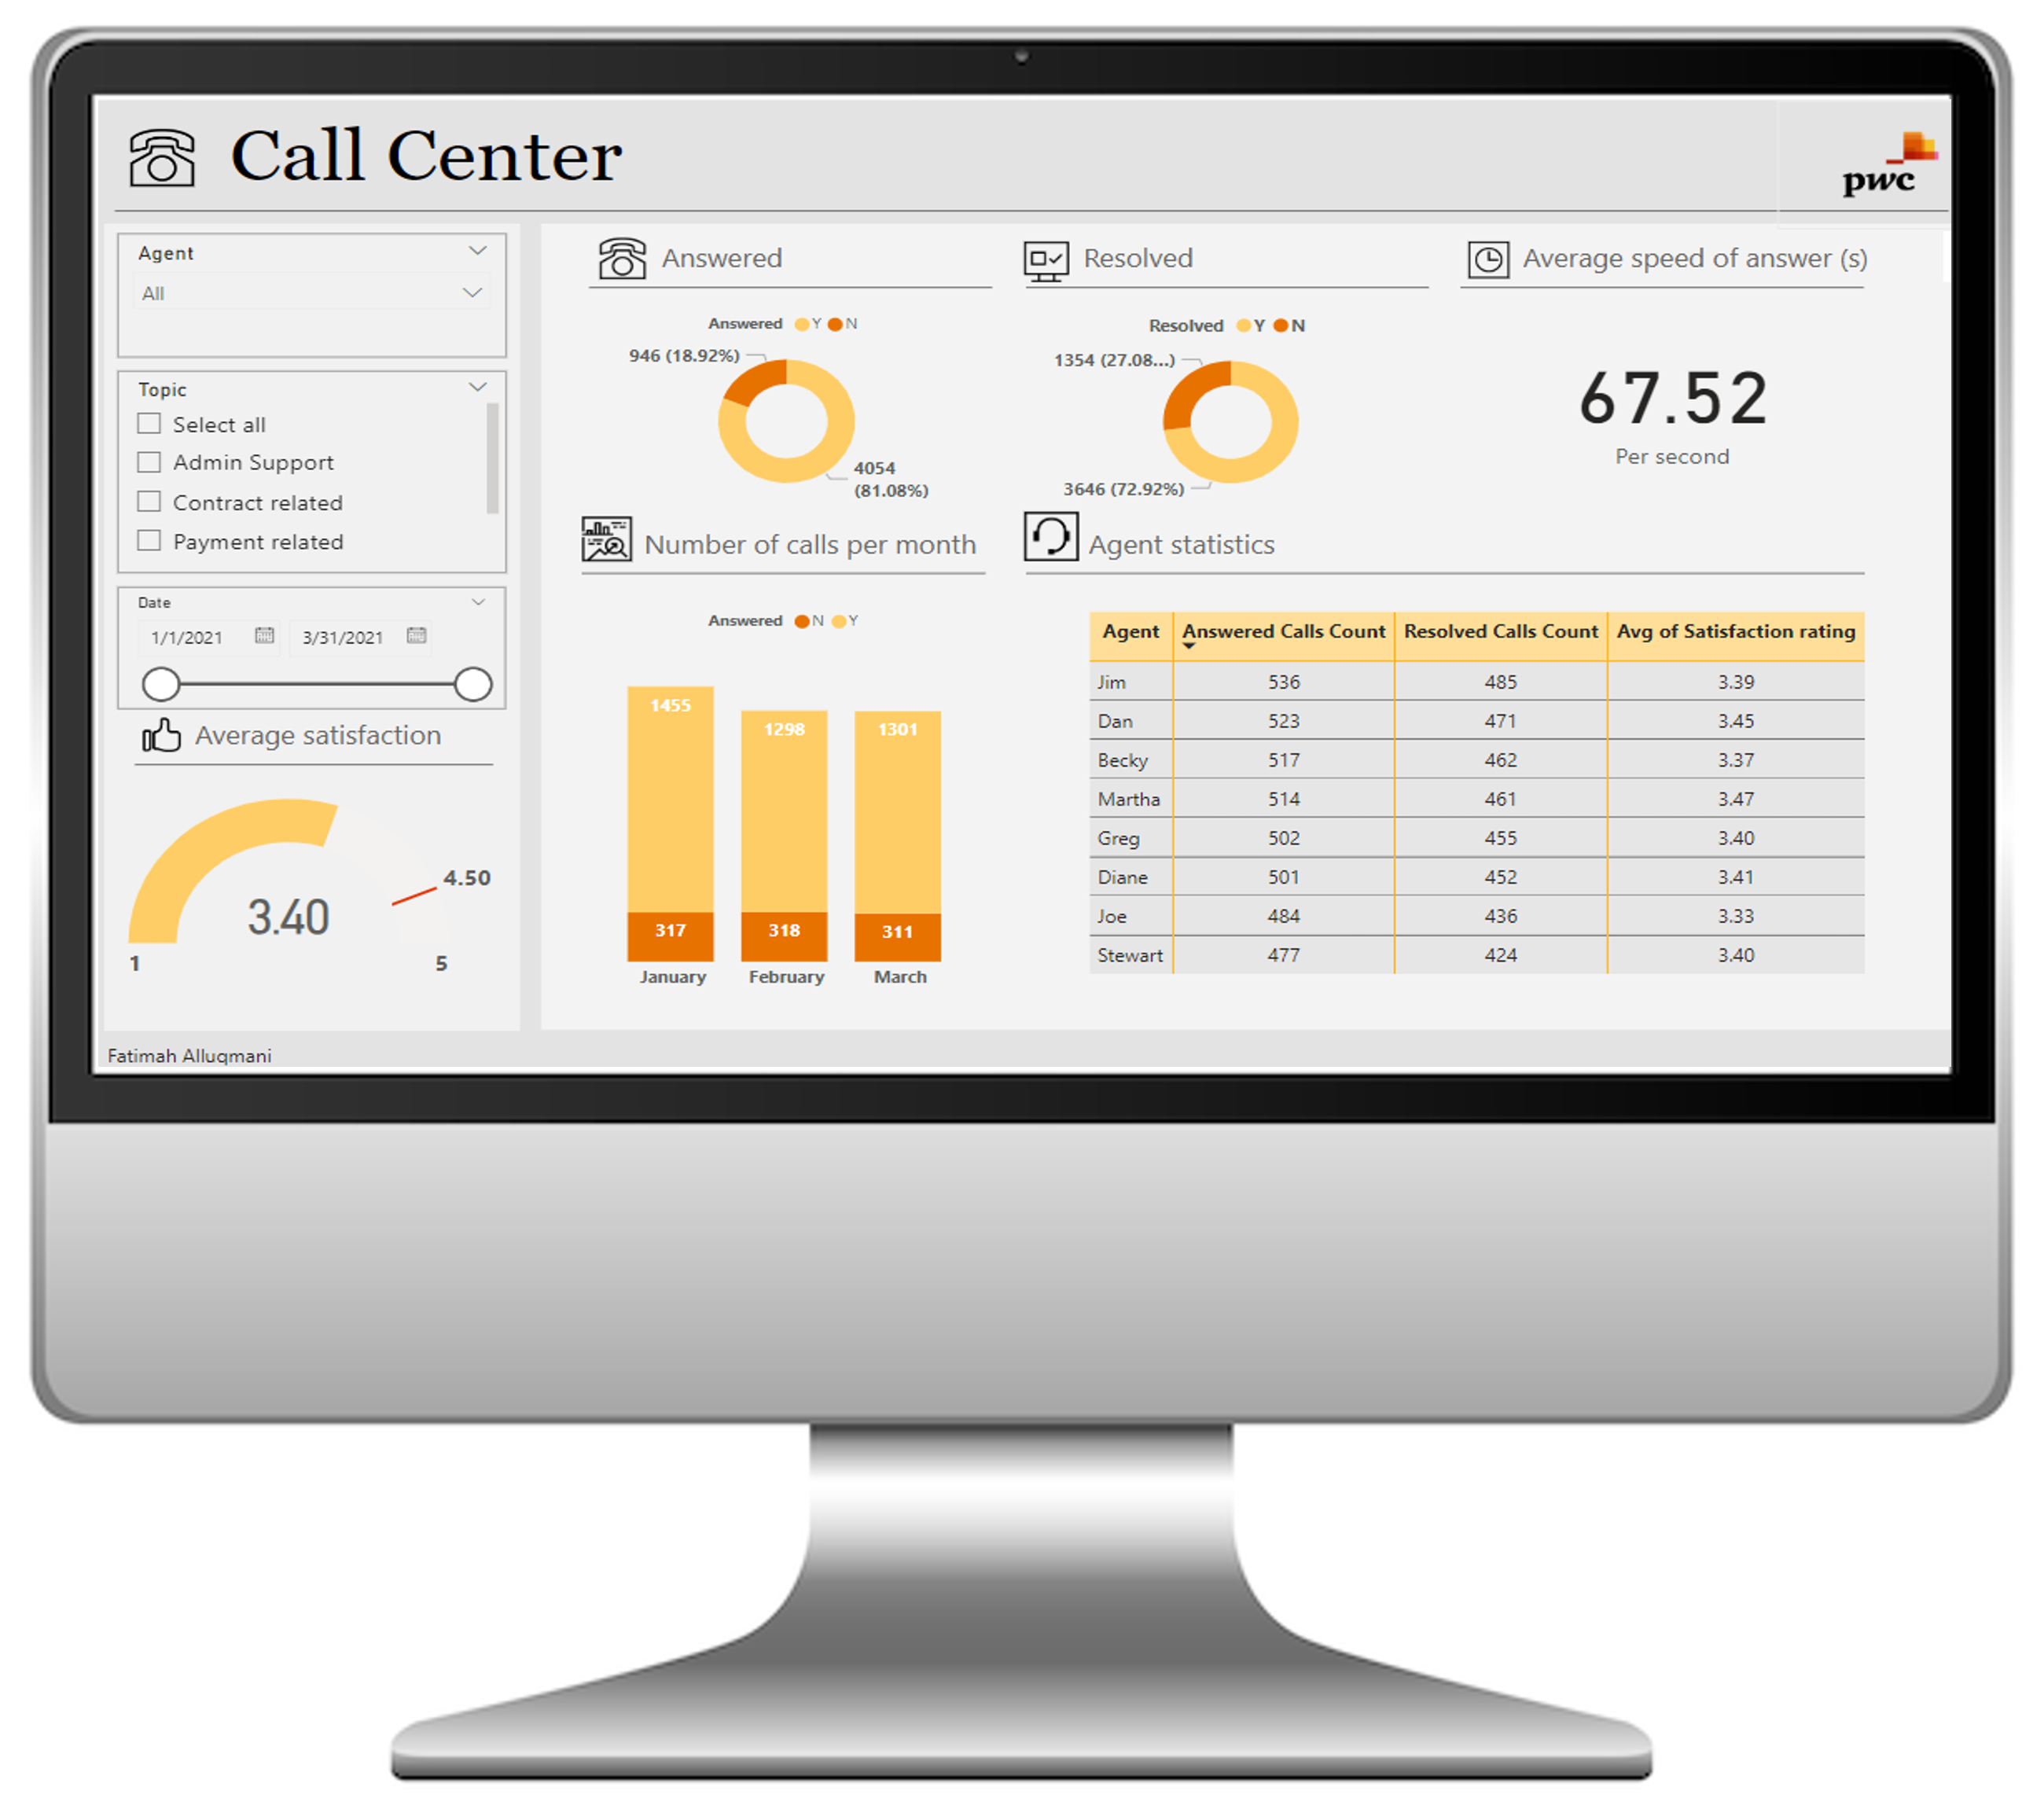

Layout of this report page (visuals, bound fields, positions):
{"tool":"powerbi","page":{"name":"Call Center Manager","canvas":[1280,720],"ordinal":0},"visuals":[{"type":"textbox","box":[89.7,4.8,1172,75.2],"z":0},{"type":"basicShape","box":[9,61,1244.3,40.1],"z":1000},{"type":"basicShape","box":[8.3,85,283.3,610],"z":2000},{"type":"basicShape","box":[292.7,84.3,960.7,609.2],"z":3000},{"type":"image","box":[1129,0,151,94.5],"z":4000},{"type":"image","box":[24.1,7.7,53.1,68.5],"z":5000},{"type":"image","box":[31.1,452.4,35.7,35.7],"z":6000},{"type":"textbox","box":[66.8,452.4,188.1,35.7],"z":7000},{"type":"basicShape","box":[21.2,472.5,259.1,40.2],"z":8000},{"type":"textbox","box":[378.6,98.3,172,35.7],"z":9000},{"type":"textbox","box":[660.1,98.3,183.2,35.7],"z":10000},{"type":"basicShape","box":[906.9,118.4,289.3,40.2],"z":11000},{"type":"textbox","box":[953.9,98.3,250.2,35.7],"z":12000},{"type":"basicShape","box":[325,118.4,289,40.2],"z":13000},{"type":"basicShape","box":[616,118.4,289,40.2],"z":14000},{"type":"image","box":[915.9,88.2,38,59.2],"z":15000},{"type":"image","box":[337.3,94.9,41.3,43.6],"z":16000},{"type":"image","box":[619.9,88.2,40.2,61.4],"z":17000},{"type":"textbox","box":[367.4,310.5,250.2,35.7],"z":18000},{"type":"basicShape","box":[320.5,330.6,289.3,40.2],"z":19000},{"type":"textbox","box":[663.4,309.3,250.2,35.7],"z":20000},{"type":"basicShape","box":[616.5,329.5,579.7,40.2],"z":21000},{"type":"image","box":[619.9,294.9,46.9,55.8],"z":22000},{"type":"image","box":[325,290.4,43.6,69.2],"z":23000},{"type":"textbox","box":[7.7,691.6,403.2,28],"z":24000},{"type":"gauge","title":"Average of Satisfaction rating","fields":{"Y":["Avg(Sheet1.Satisfaction rating)"],"MinValue":["Min(Sheet1.Satisfaction rating)"],"MaxValue":["Max(Sheet1.Satisfaction rating)"]},"box":[21.7,511.7,258.3,148.3],"z":25000},{"type":"donutChart","fields":{"Y":["CountNonNull(Sheet1.Answered (Y/N))"],"Category":["Sheet1.Answered (Y/N)"]},"box":[324.5,146.3,283.1,154.3],"z":26000},{"type":"columnChart","fields":{"Category":["Sheet1.Date.Variation.Date Hierarchy.Month"],"Y":["CountNonNull(Sheet1.Call Id)"],"Series":["Sheet1.Answered (Y/N)"]},"box":[324.5,365.8,283.1,300.6],"z":27000},{"type":"donutChart","fields":{"Category":["Sheet1.Resolved"],"Y":["CountNonNull(Sheet1.Resolved)"]},"box":[621.9,146.3,283.1,154.3],"z":28000},{"type":"card","fields":{"Values":["Avg(Call Center.Speed of answer in seconds)"]},"box":[916.2,146.3,283,154],"z":29000},{"type":"slicer","fields":{"Values":["Sheet1.Agent"]},"box":[20,98.3,260,91.7],"z":30000},{"type":"slicer","fields":{"Values":["Sheet1.Topic"]},"box":[20,200,260,150],"z":31000},{"type":"slicer","fields":{"Values":["Sheet1.Date"]},"box":[20.7,359.5,259.3,90.7],"z":32000},{"type":"tableEx","fields":{"Values":["Sheet1.Agent","Sheet1.AnsweredCallsCount","Sheet1.ResolvedCallsCount","Avg(Sheet1.Satisfaction rating)"]},"box":[663.3,373.8,532.9,292.7],"z":33000}]}

Visuals, with their boxes on the page's 1280x720 design canvas (x1, y1, x2, y2). These are canvas units, not pixel positions in the 2044x1809 screenshot, which may show the page scaled, cropped or inside an application window:
textbox: bbox=(90, 5, 1262, 80)
basicShape: bbox=(9, 61, 1253, 101)
basicShape: bbox=(8, 85, 292, 695)
basicShape: bbox=(293, 84, 1253, 694)
image: bbox=(1129, 0, 1280, 94)
image: bbox=(24, 8, 77, 76)
image: bbox=(31, 452, 67, 488)
textbox: bbox=(67, 452, 255, 488)
basicShape: bbox=(21, 472, 280, 513)
textbox: bbox=(379, 98, 551, 134)
textbox: bbox=(660, 98, 843, 134)
basicShape: bbox=(907, 118, 1196, 159)
textbox: bbox=(954, 98, 1204, 134)
basicShape: bbox=(325, 118, 614, 159)
basicShape: bbox=(616, 118, 905, 159)
image: bbox=(916, 88, 954, 147)
image: bbox=(337, 95, 379, 138)
image: bbox=(620, 88, 660, 150)
textbox: bbox=(367, 310, 618, 346)
basicShape: bbox=(320, 331, 610, 371)
textbox: bbox=(663, 309, 914, 345)
basicShape: bbox=(616, 330, 1196, 370)
image: bbox=(620, 295, 667, 351)
image: bbox=(325, 290, 369, 360)
textbox: bbox=(8, 692, 411, 720)
"Average of Satisfaction rating" gauge: bbox=(22, 512, 280, 660)
donutChart - CountNonNull(Sheet1.Answered (Y/N)) x Sheet1.Answered (Y/N): bbox=(324, 146, 608, 301)
columnChart - Sheet1.Date.Variation.Date Hierarchy.Month x CountNonNull(Sheet1.Call Id): bbox=(324, 366, 608, 666)
donutChart - Sheet1.Resolved x CountNonNull(Sheet1.Resolved): bbox=(622, 146, 905, 301)
card - Avg(Call Center.Speed of answer in seconds): bbox=(916, 146, 1199, 300)
slicer - Sheet1.Agent: bbox=(20, 98, 280, 190)
slicer - Sheet1.Topic: bbox=(20, 200, 280, 350)
slicer - Sheet1.Date: bbox=(21, 360, 280, 450)
tableEx - Sheet1.Agent x Sheet1.AnsweredCallsCount: bbox=(663, 374, 1196, 666)
